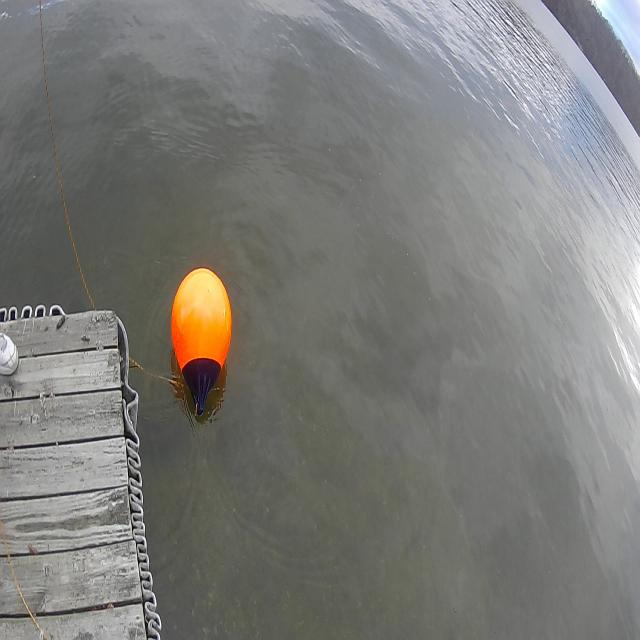Buoy: (170, 266, 234, 374)
